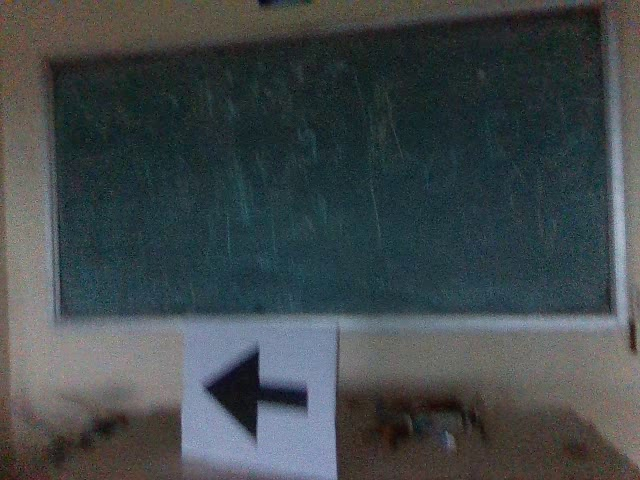Left: (195, 341, 315, 446)
